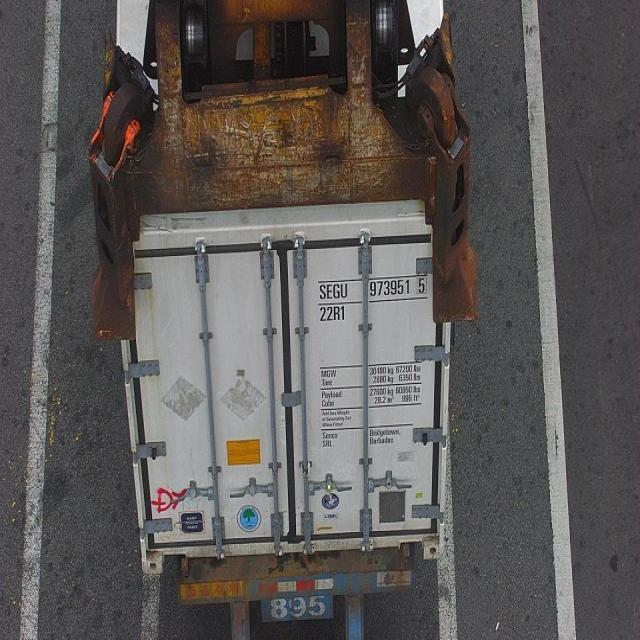ISO: (319, 304, 348, 319)
container_number: (320, 272, 428, 302)
